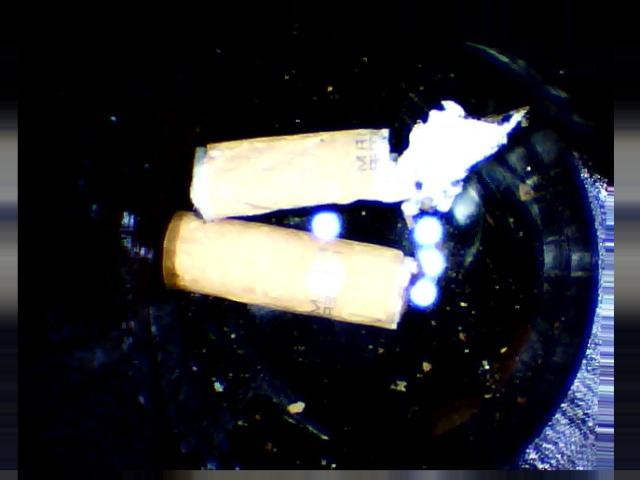megot: (184, 83, 533, 240), (156, 205, 424, 335)
